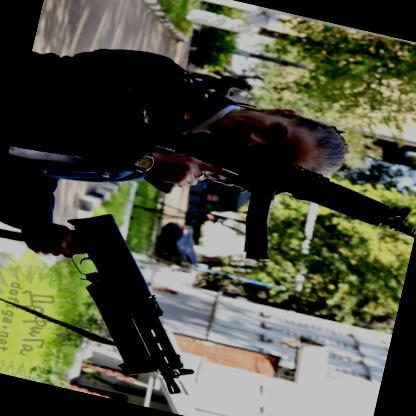rifle: (78, 101, 416, 291), (0, 192, 231, 406)
